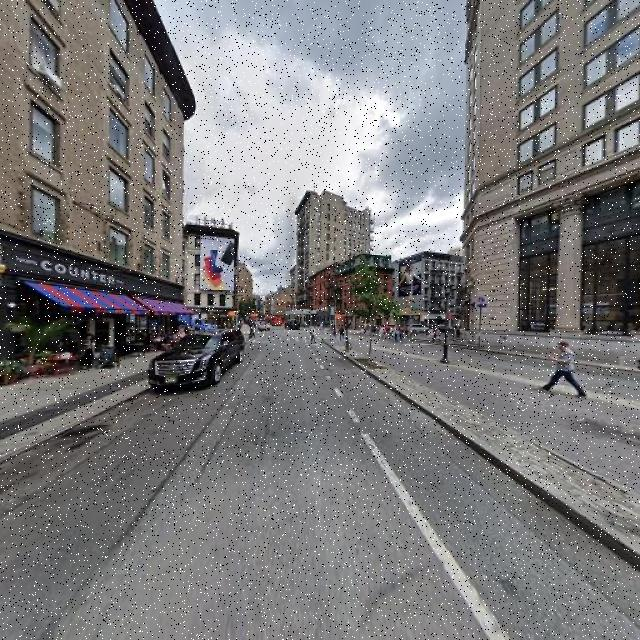Building: (1, 1, 182, 385), (474, 1, 640, 363), (338, 254, 393, 332)
